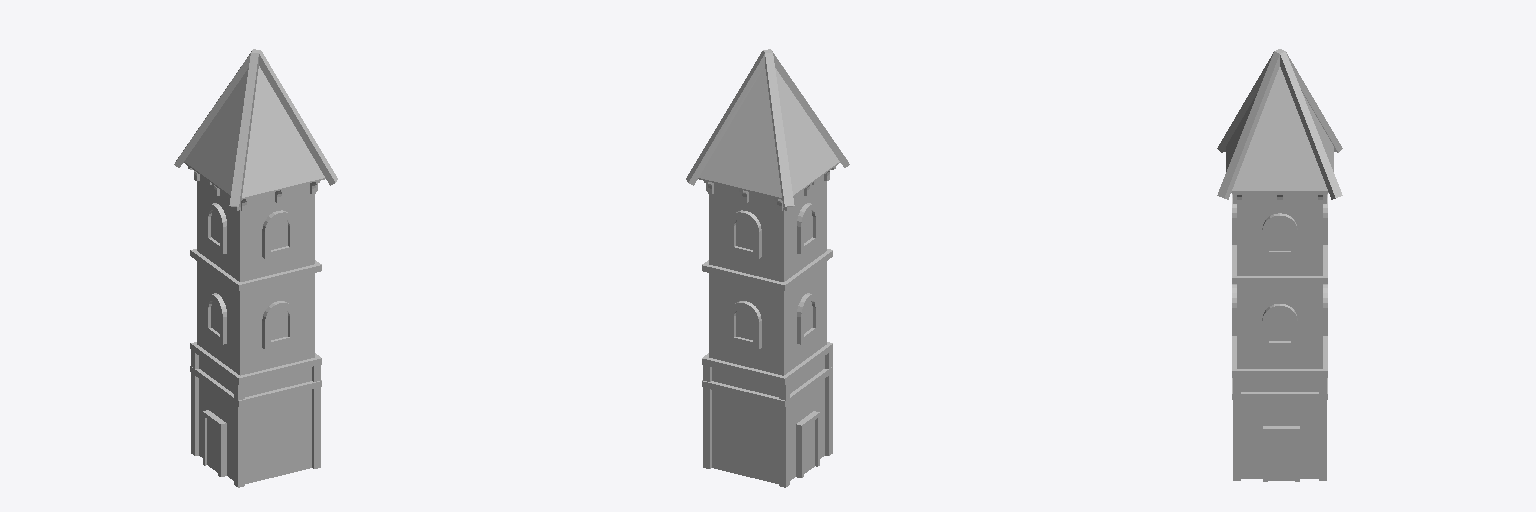
The model's file is Tower2.obj.
The picture shows the model from 3 angles: view 1: azimuth 30°, elevation 25°; view 2: azimuth 150°, elevation 25°; view 3: azimuth 270°, elevation 25°; orthographic projection.
Bounding box in the file's own units: 2.39 × 8.58 × 2.39.